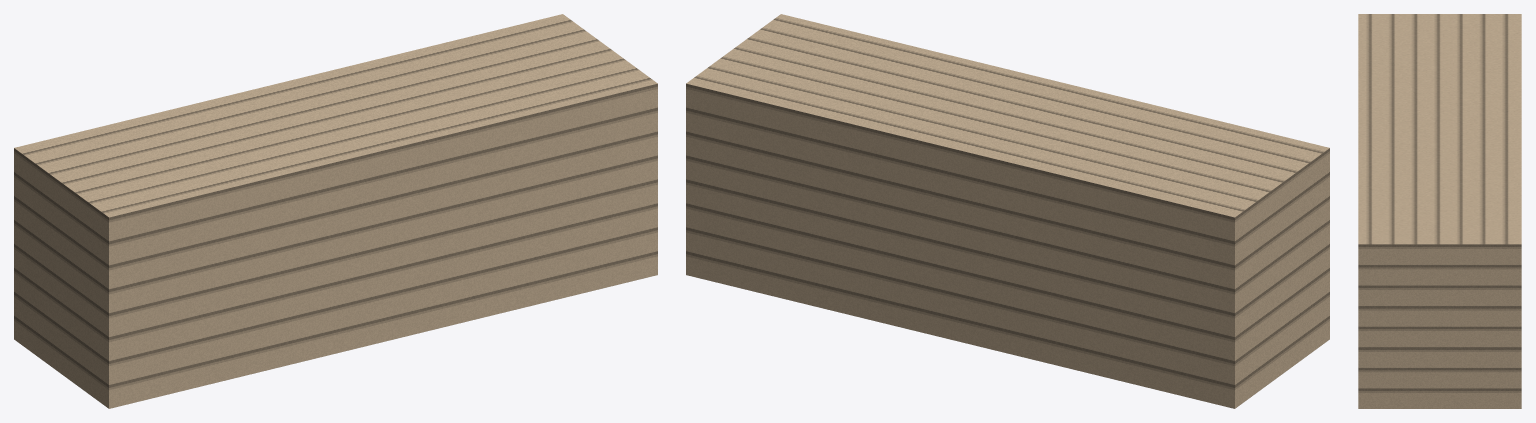
Rendered from cafeteria_serving_line.glb.
3 renders of one model, left to right at view 1: azimuth 30°, elevation 25°; view 2: azimuth 150°, elevation 25°; view 3: azimuth 270°, elevation 25°, orthographic. The views are drawn at different scales.
Visible parts, largest first — view 1: cafeteria_serving_line-col; view 2: cafeteria_serving_line-col; view 3: cafeteria_serving_line-col.
Boxes of the visible parts, x1,y1,x2,y2 form: cafeteria_serving_line-col: (14, 14, 657, 408); cafeteria_serving_line-col: (686, 14, 1329, 408); cafeteria_serving_line-col: (1358, 14, 1521, 408).
Size of the model in its own units: 3 by 1 by 0.9.
Materials: 1 (1 with a texture image).
